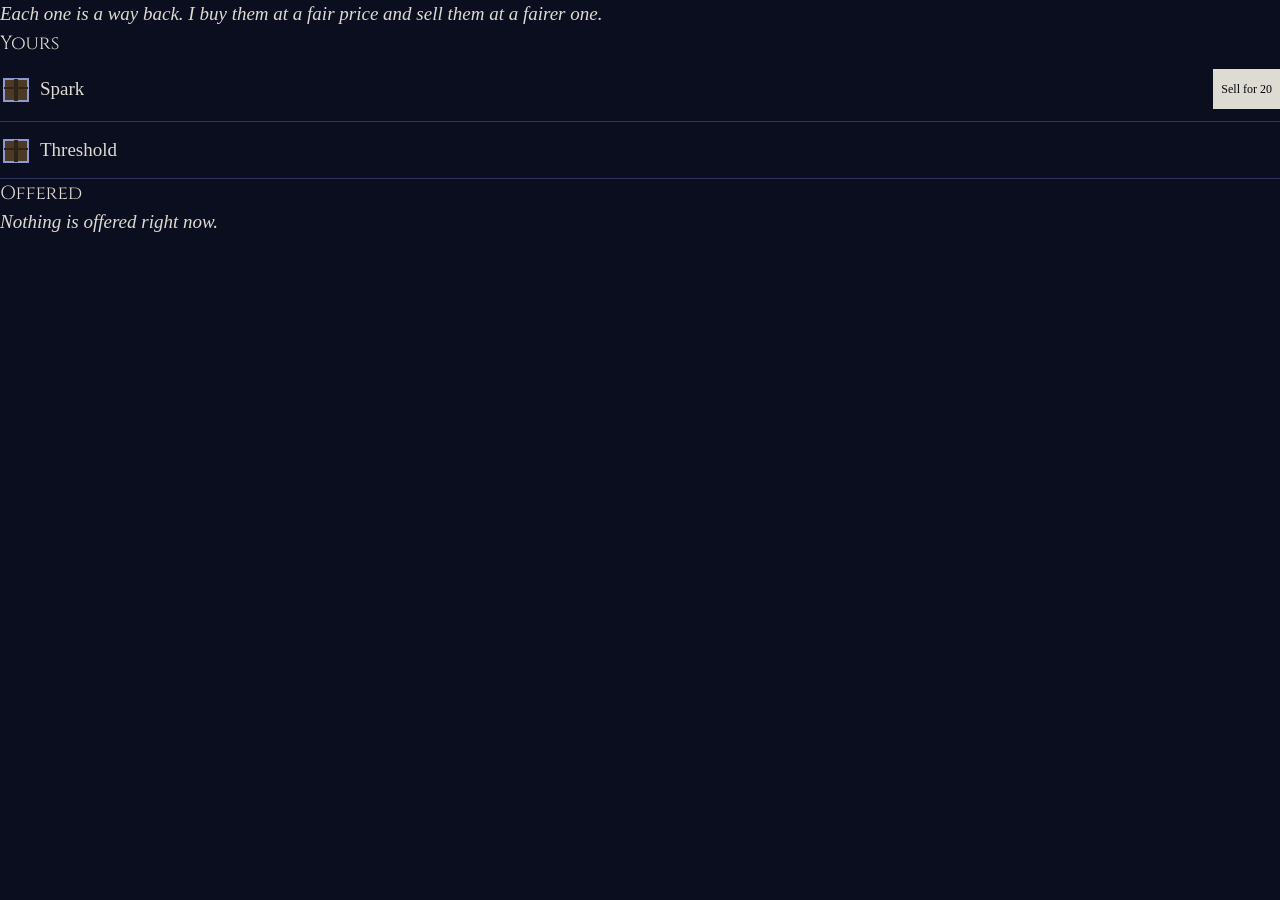
sale requires confirmation, updates credits/catalogue and Threshold has no sell button
Click the button "Sell for 20". click: (1247, 89)
box: [1213,69,1279,109]
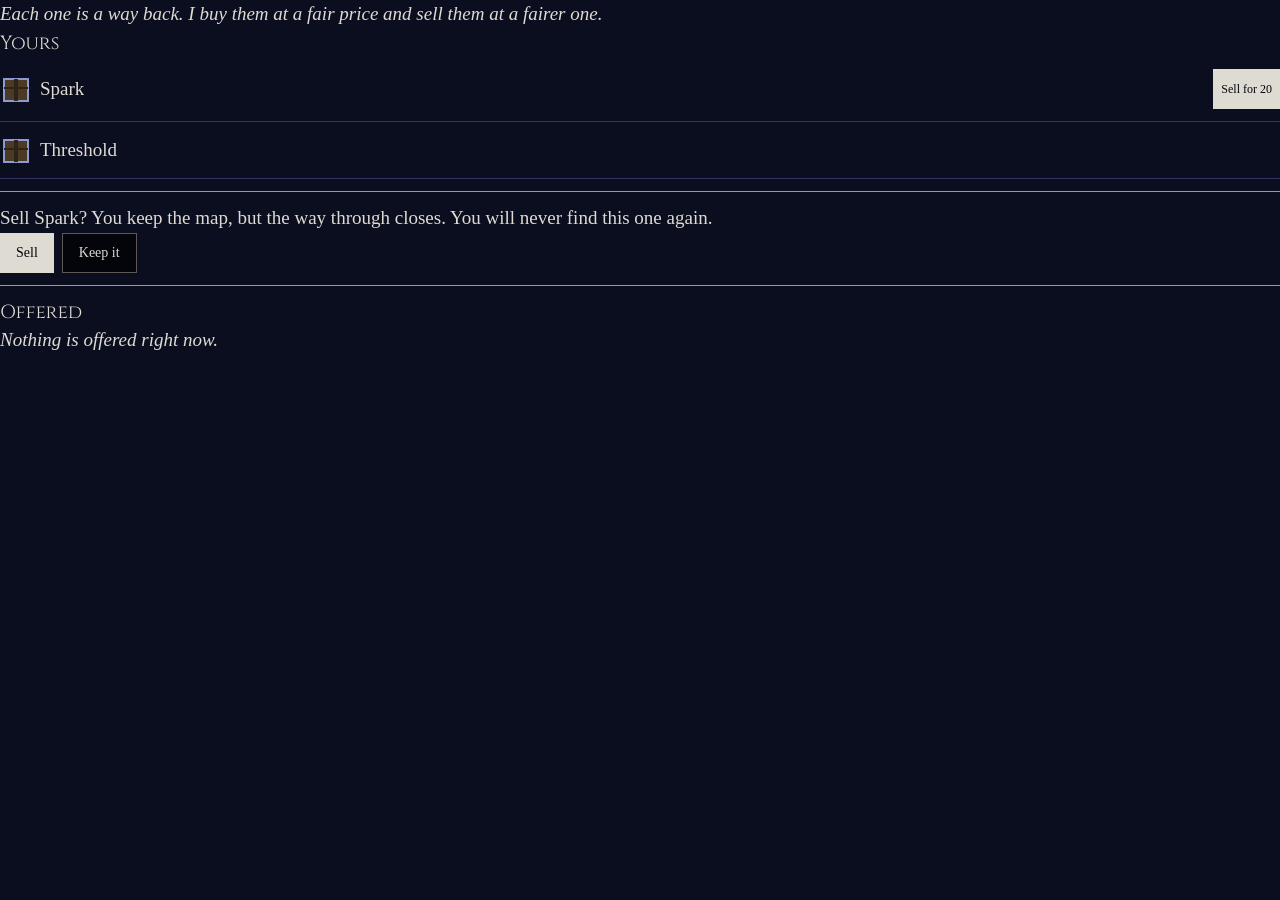
Click the button "Sell". click: (27, 252)
box: [0,232,54,272]
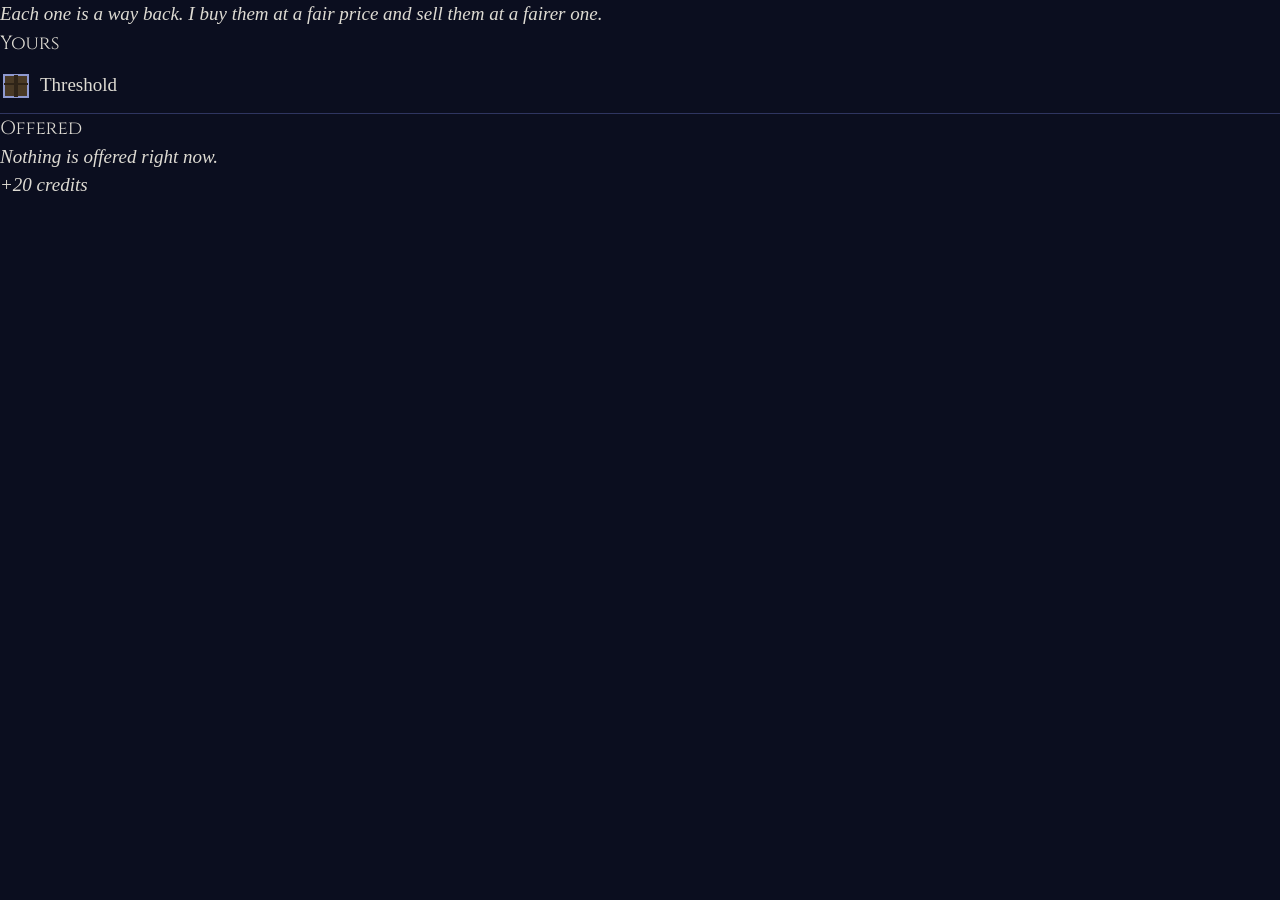
expect the button "Sell for 20" is gone: met
